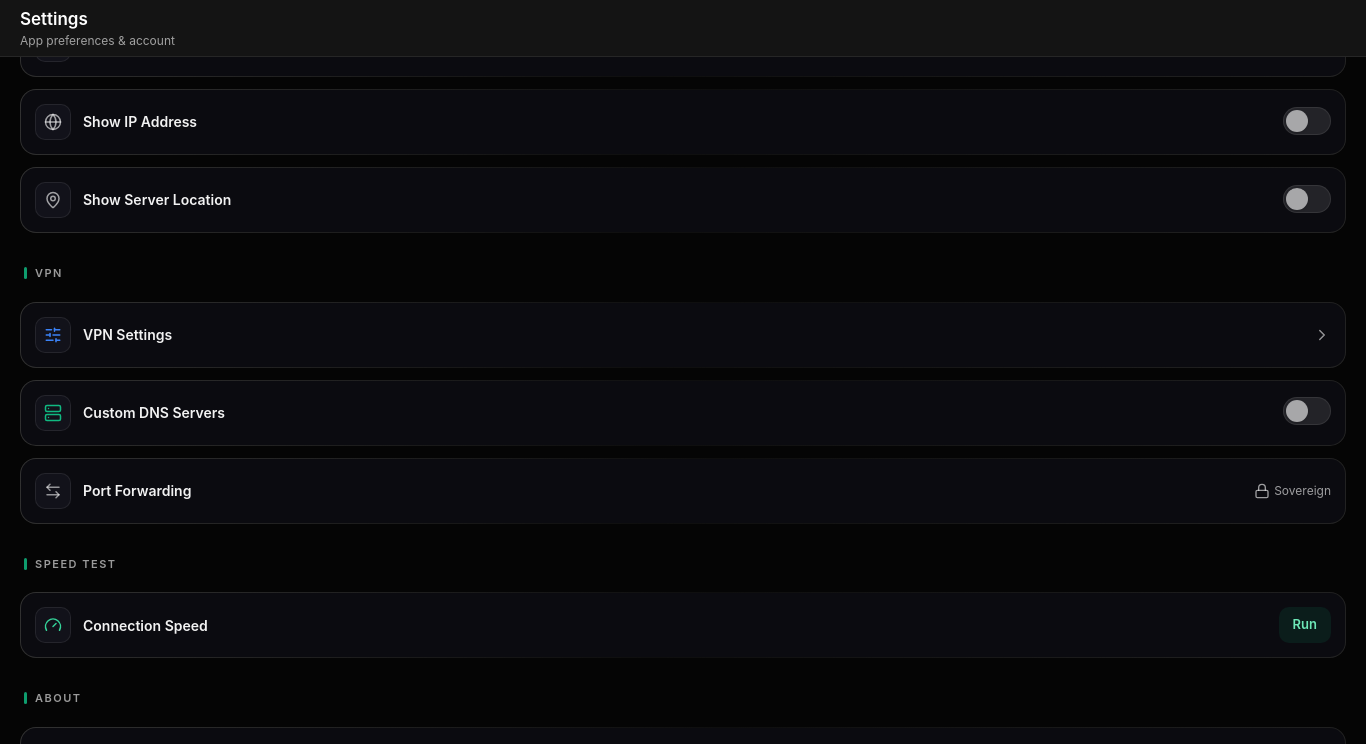
Test: Custom DNS is on every plan (owner decision D6, Account API item 40) › plan RECON: the switch works and nothing upsells it
The width and height of the screenshot is (1366, 744).
(page scrolled)
Click the switch labelled "Custom DNS Servers".
click(53, 412)  # box left=21, top=380, right=1345, bottom=444
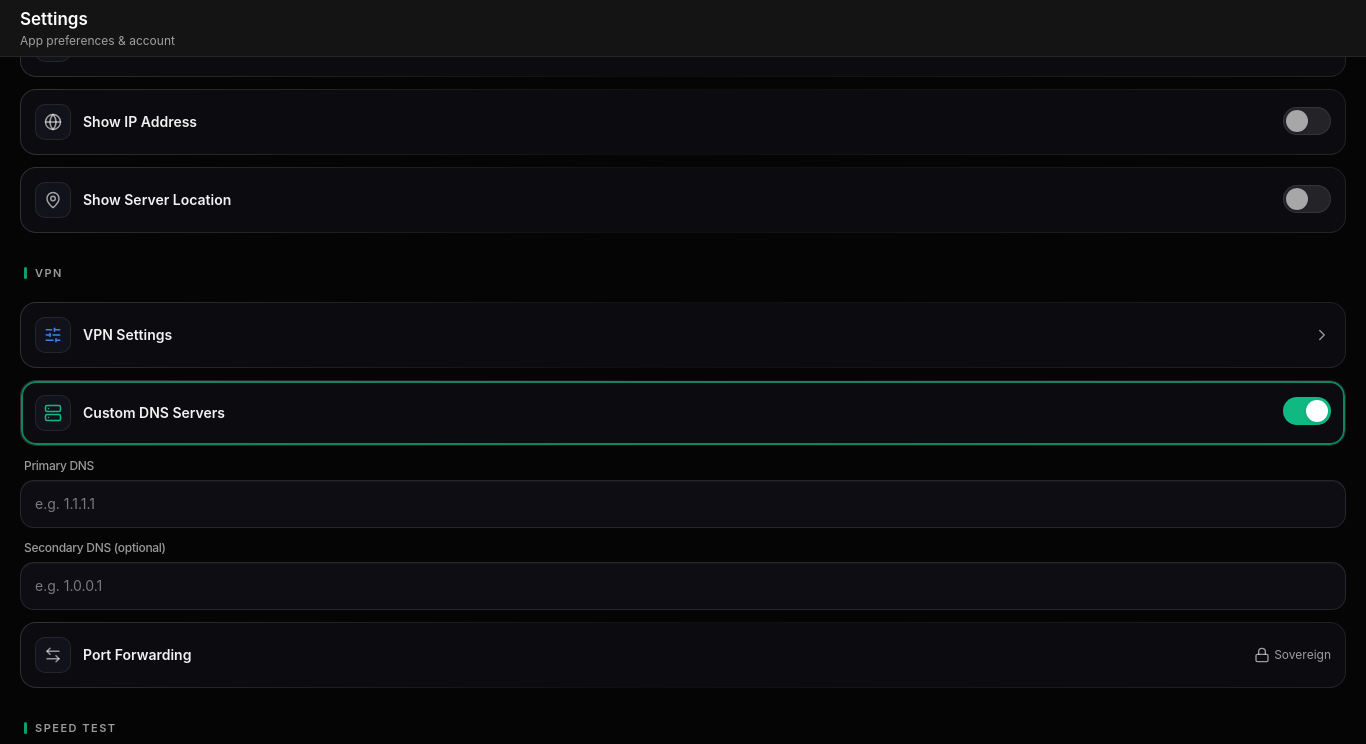
Result: the field labelled "Primary DNS" is shown at left=35, top=494, right=1331, bottom=514
